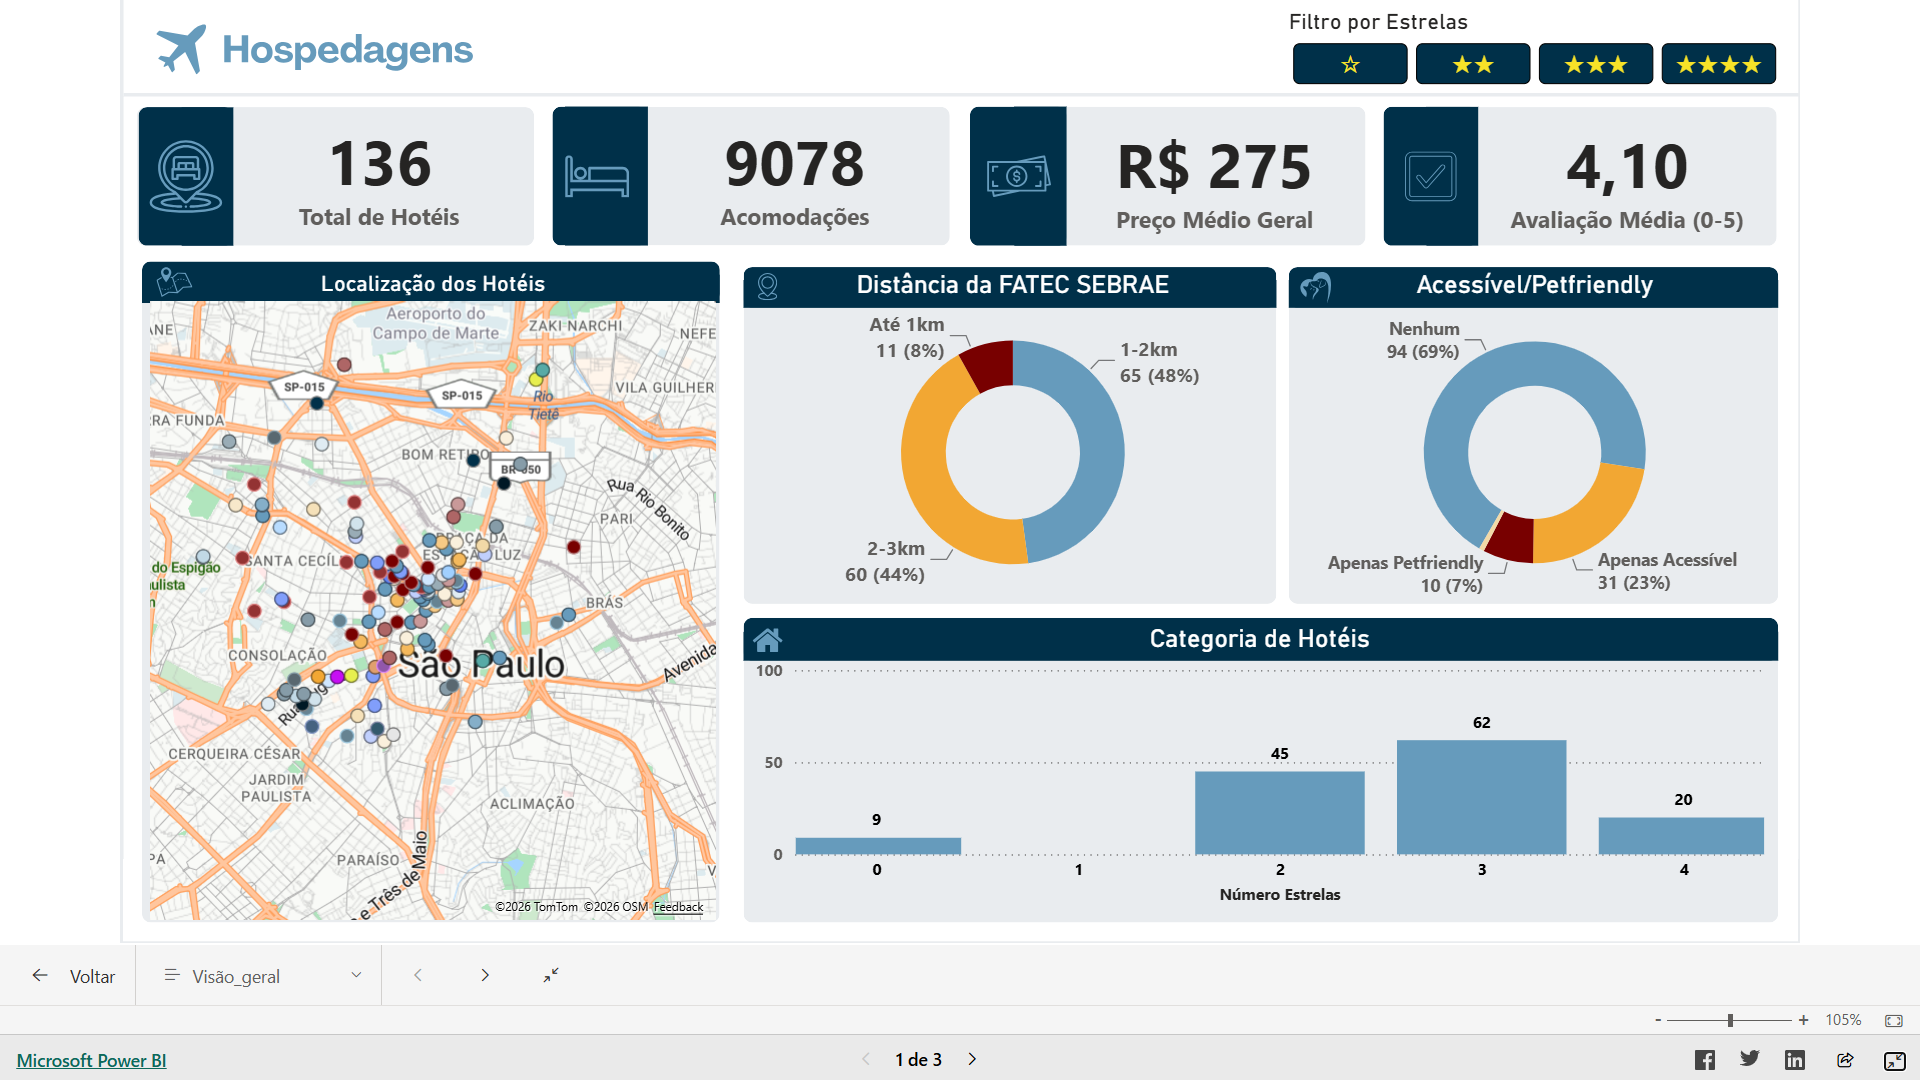

What the dashboard file says about the page in this screenshot:
{"tool":"powerbi","page":{"name":"Visão_geral","canvas":[1280,720],"ordinal":0},"visuals":[{"type":"card","fields":{"Values":["Hoteis_FATECSEBRAE.Total Hotéis"]},"box":[104.4,80,185.6,106.7],"z":0},{"type":"card","fields":{"Values":["Sum(Hoteis_FATECSEBRAE.Nº de Quartos/Unidades)"]},"box":[410,80,207.8,106.7],"z":1000},{"type":"card","fields":{"Values":["Avg(Hoteis_FATECSEBRAE.Preço Médio da Diária (R$))"]},"box":[724.4,80,218.9,110],"z":2000},{"type":"donutChart","title":"Distância da FATEC SEBRAE","fields":{"Y":["CountNonNull(Hoteis_FATECSEBRAE.FAIXA-DISTÂNCIA)"],"Category":["Hoteis_FATECSEBRAE.FAIXA-DISTÂNCIA"]},"box":[483.3,205.6,393.3,256.7],"z":3000},{"type":"donutChart","title":"Acessível/Petfriendly","fields":{"Category":["Hoteis_FATECSEBRAE.Categoria_Comodidades"],"Y":["CountNonNull(Hoteis_FATECSEBRAE.Nome do Hotel)"]},"box":[891.1,205.6,373.3,256.7],"z":4000},{"type":"clusteredColumnChart","title":"Categoria de Hotéis","fields":{"Y":["Hoteis_FATECSEBRAE.Total Hotéis"],"Category":["Hoteis_FATECSEBRAE.Quantas estrelas"]},"box":[478.9,475.6,778.9,218.9],"z":5000},{"type":"card","fields":{"Values":["Avg(Hoteis_FATECSEBRAE.Avaliação Média (0-5))"]},"box":[1037.8,80,221.1,110],"z":7000},{"type":"azureMap","title":"Localização dos Hotéis","fields":{"Y":["Hoteis_FATECSEBRAE.Latitude"],"X":["Hoteis_FATECSEBRAE.Longitude"]},"box":[17.8,205.6,441.1,500],"z":8000},{"type":"ChicletSlicer1448559807354","title":"Filtro por Estrelas","fields":{"Category":["Hoteis_FATECSEBRAE.Estrelas teste"]},"box":[885.6,5.6,383.3,74.4],"z":9000}]}

Visuals, with their boxes on the page's 1280x720 design canvas (x1, y1, x2, y2). These are canvas units, not pixel positions in the 1920x1080 screenshot, which may show the page scaled, cropped or inside an application window:
card - Hoteis_FATECSEBRAE.Total Hotéis: box(104, 80, 290, 187)
card - Sum(Hoteis_FATECSEBRAE.Nº de Quartos/Unidades): box(410, 80, 618, 187)
card - Avg(Hoteis_FATECSEBRAE.Preço Médio da Diária (R$)): box(724, 80, 943, 190)
"Distância da FATEC SEBRAE" donutChart: box(483, 206, 877, 462)
"Acessível/Petfriendly" donutChart: box(891, 206, 1264, 462)
"Categoria de Hotéis" clusteredColumnChart: box(479, 476, 1258, 694)
card - Avg(Hoteis_FATECSEBRAE.Avaliação Média (0-5)): box(1038, 80, 1259, 190)
"Localização dos Hotéis" azureMap: box(18, 206, 459, 706)
"Filtro por Estrelas" ChicletSlicer1448559807354: box(886, 6, 1269, 80)
